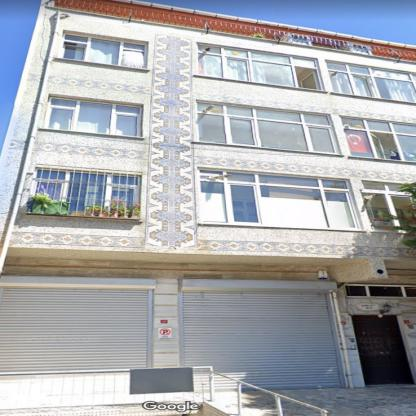door: (353, 316, 410, 384)
window: (199, 169, 357, 229), (200, 102, 339, 154), (198, 46, 322, 91), (35, 170, 136, 210), (48, 99, 142, 137), (329, 62, 414, 101), (345, 116, 415, 160), (65, 32, 145, 68), (364, 183, 414, 229), (347, 287, 415, 297)
